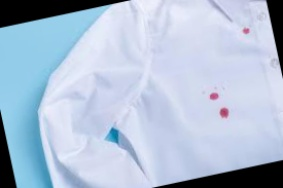blood: (218, 105, 230, 121), (241, 25, 251, 36), (209, 91, 219, 101)
